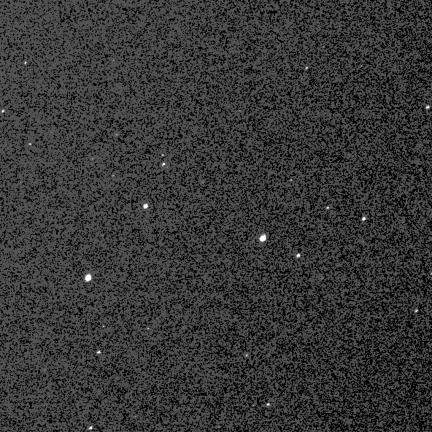blob: (85, 274, 92, 283), (260, 235, 266, 242), (306, 67, 310, 71), (162, 163, 166, 167), (362, 217, 366, 221), (2, 110, 6, 114), (144, 204, 148, 208), (426, 106, 430, 109), (297, 254, 300, 258), (415, 309, 418, 313), (267, 403, 270, 407), (97, 351, 101, 354), (327, 206, 330, 210), (89, 427, 93, 430), (162, 154, 165, 157), (29, 144, 32, 146), (147, 328, 150, 330), (25, 62, 27, 65)
